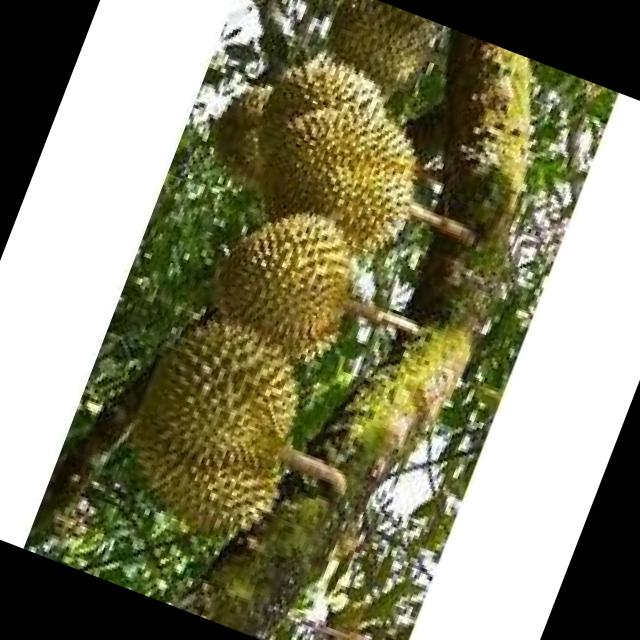fruit: (80, 284, 362, 586), (175, 26, 472, 284), (182, 172, 404, 394)
